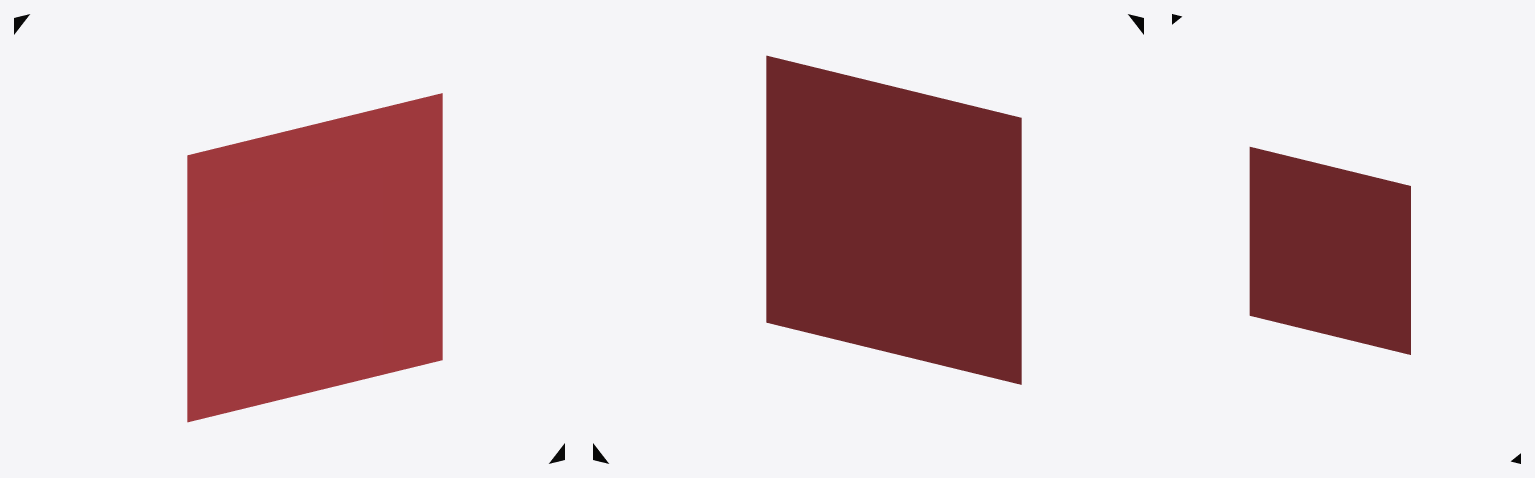
File: display_period.dae
3 renders of one model, left to right at view 1: azimuth 30°, elevation 25°; view 2: azimuth 150°, elevation 25°; view 3: azimuth 330°, elevation 25°, orthographic. The views are drawn at different scales.
Parts seen in each view (by area): view 1: period_L1; view 2: period_L1; view 3: period_L1.
Boxes of the visible parts, <box> form: period_L1: <box>14,14,564,463</box>; period_L1: <box>593,14,1143,463</box>; period_L1: <box>1172,14,1520,463</box>.
Size of the model in its own units: 0.0337 by 0.00271 by 0.0337.
